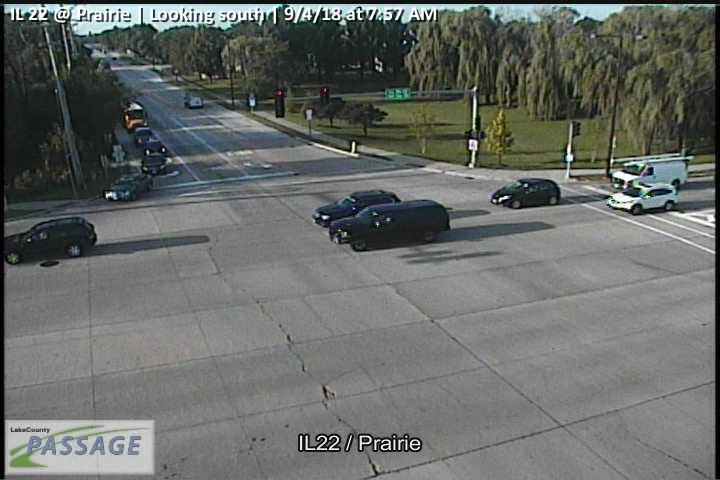SUV: (327, 199, 451, 251), (1, 215, 98, 264), (310, 188, 400, 228), (606, 182, 680, 216), (490, 177, 561, 209)
Sedan: (610, 152, 688, 188), (104, 173, 153, 202), (141, 153, 167, 175), (134, 127, 156, 147), (143, 139, 166, 154)
